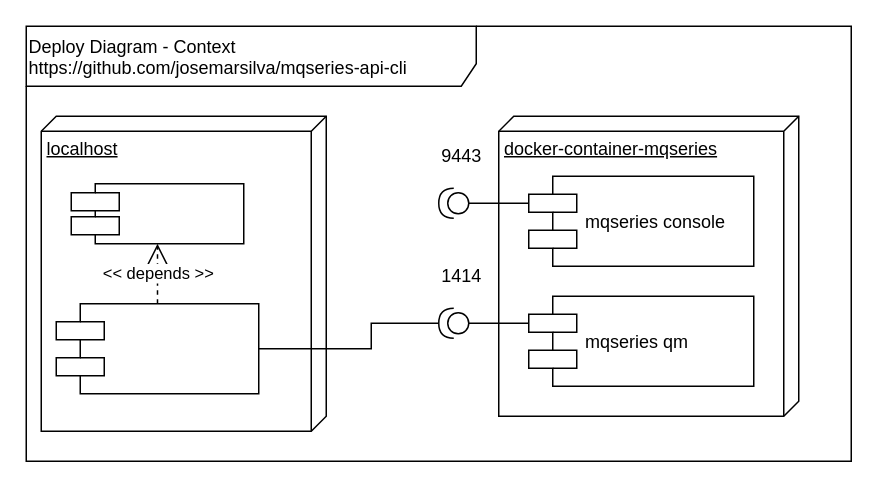
The diagram is 878 pixels wide and 488 high, and some of its shapes have lost their labels. The shapes that lost their labels are listed below. From the top down, each one's centre as x and y in pixels, then its label:
At (x=157, y=213): "Java JRE".
At (x=157, y=348): "mqseries-api-cli".
